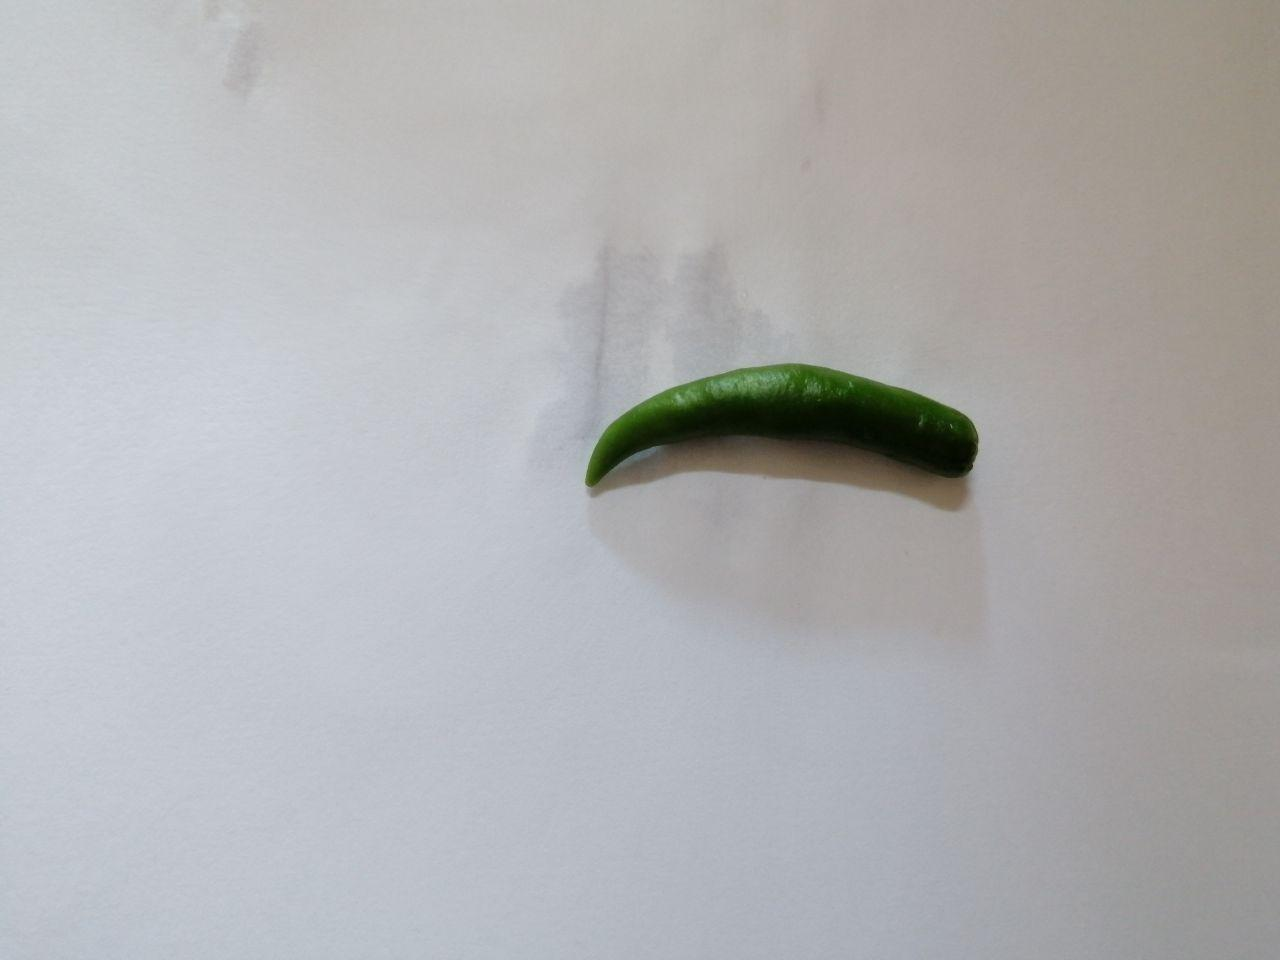lada hijau: (566, 346, 1000, 508)
